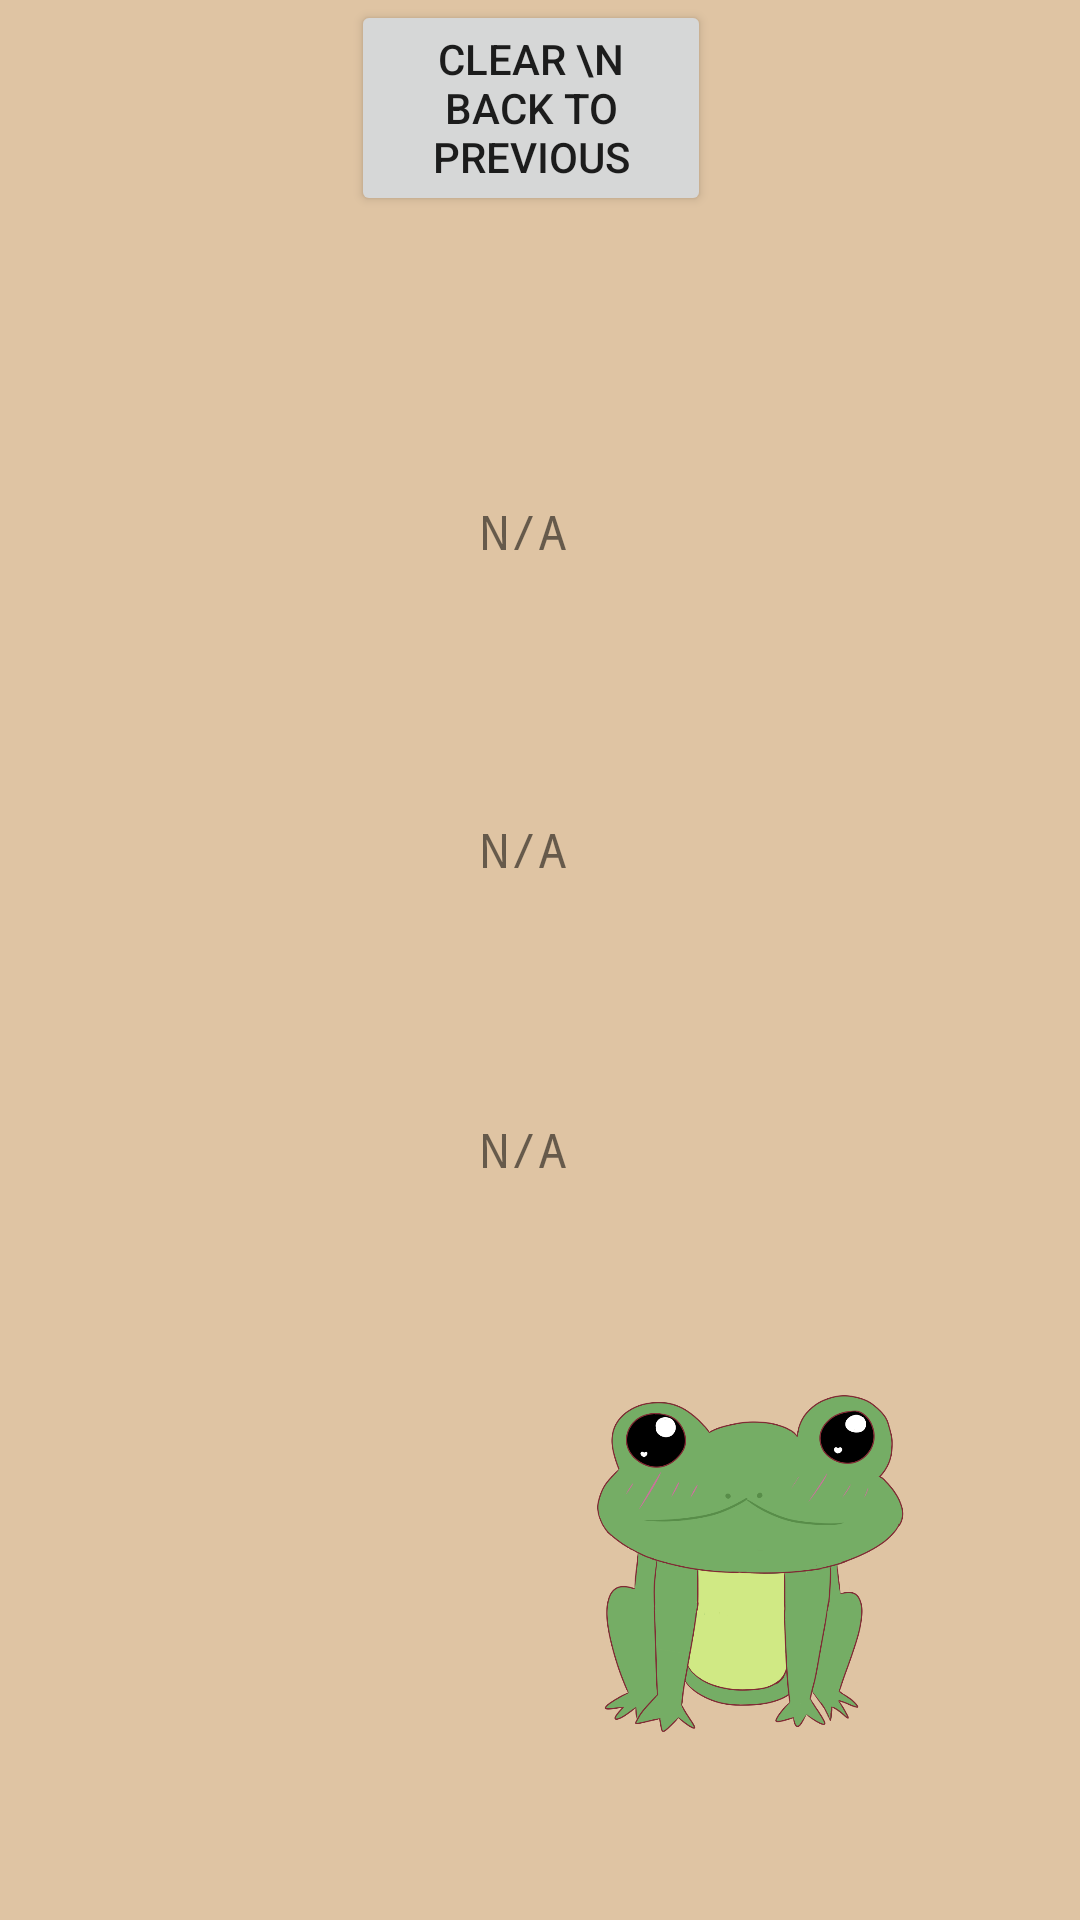

Locate icon controls on the screen. Image size 1080×1920, boxes as BBox(x1, y1, x2, y2).
frog: BBox(597, 1395, 904, 1732)
